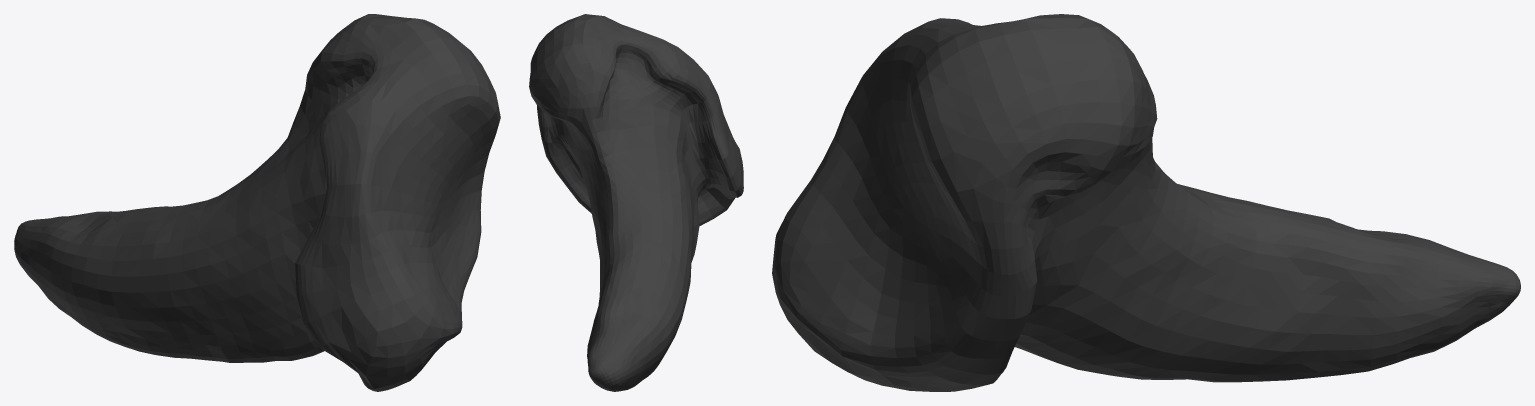
Rendered from Distal_phalange_1.glb.
3 renders of one model, left to right at view 1: azimuth 30°, elevation 25°; view 2: azimuth 150°, elevation 25°; view 3: azimuth 270°, elevation 25°, orthographic. The views are drawn at different scales.
Visible parts, largest first — view 1: Distal_phalange_1; view 2: Distal_phalange_1; view 3: Distal_phalange_1.
Part boxes in pixels (<box>): Distal_phalange_1: <box>14,14,500,391</box>; Distal_phalange_1: <box>529,14,743,391</box>; Distal_phalange_1: <box>772,14,1520,391</box>.
Bounding box in the file's own units: 0.1078 × 0.1196 × 0.1745.
1 material, 1 textured.
